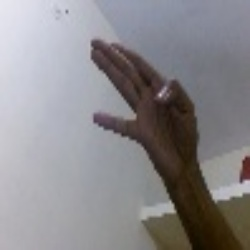hand: (77, 28, 211, 189)
